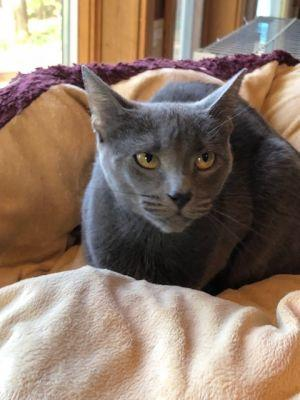rblue: (70, 58, 253, 249)
